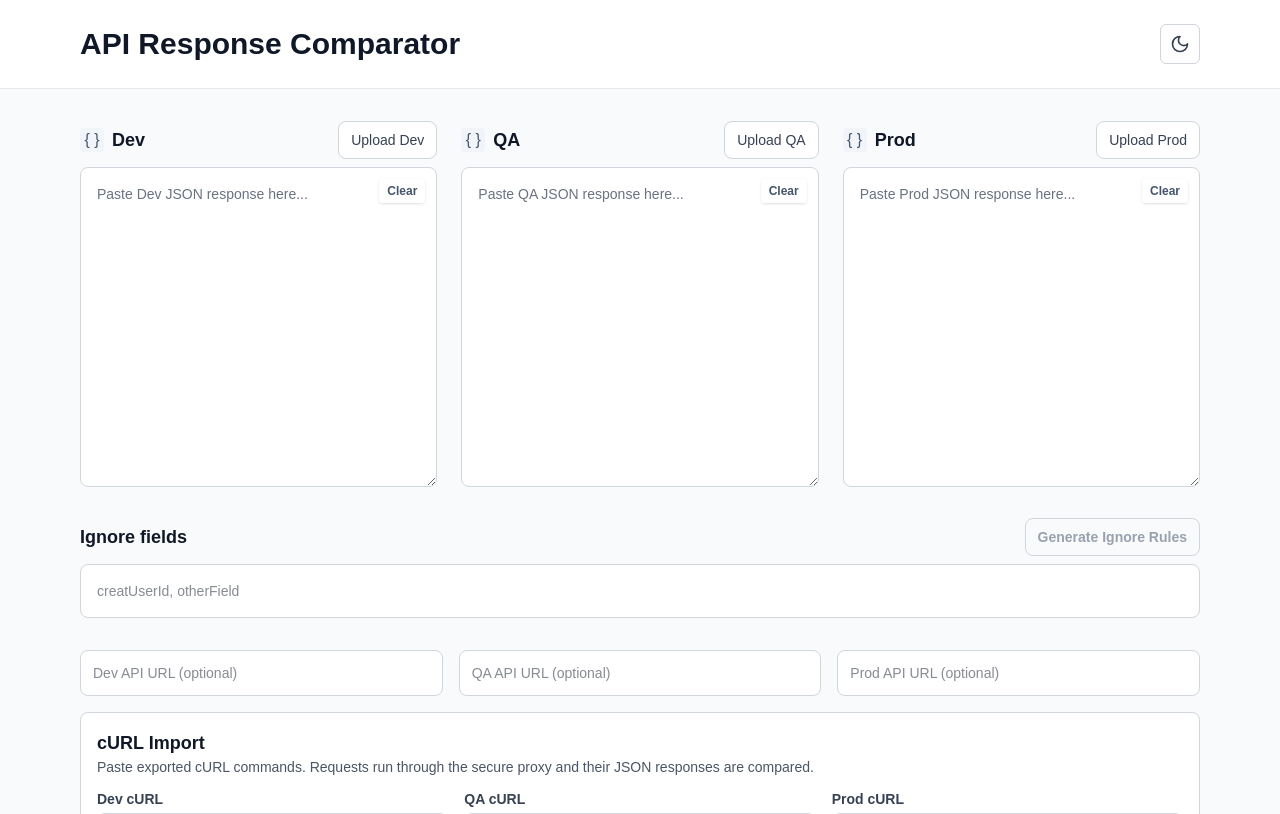
Scenario: Home › clears each environment URL independently
Step 1. Type "https://dev.test" into the field labelled "Dev API URL" → (261, 673), box [80,650,443,696]
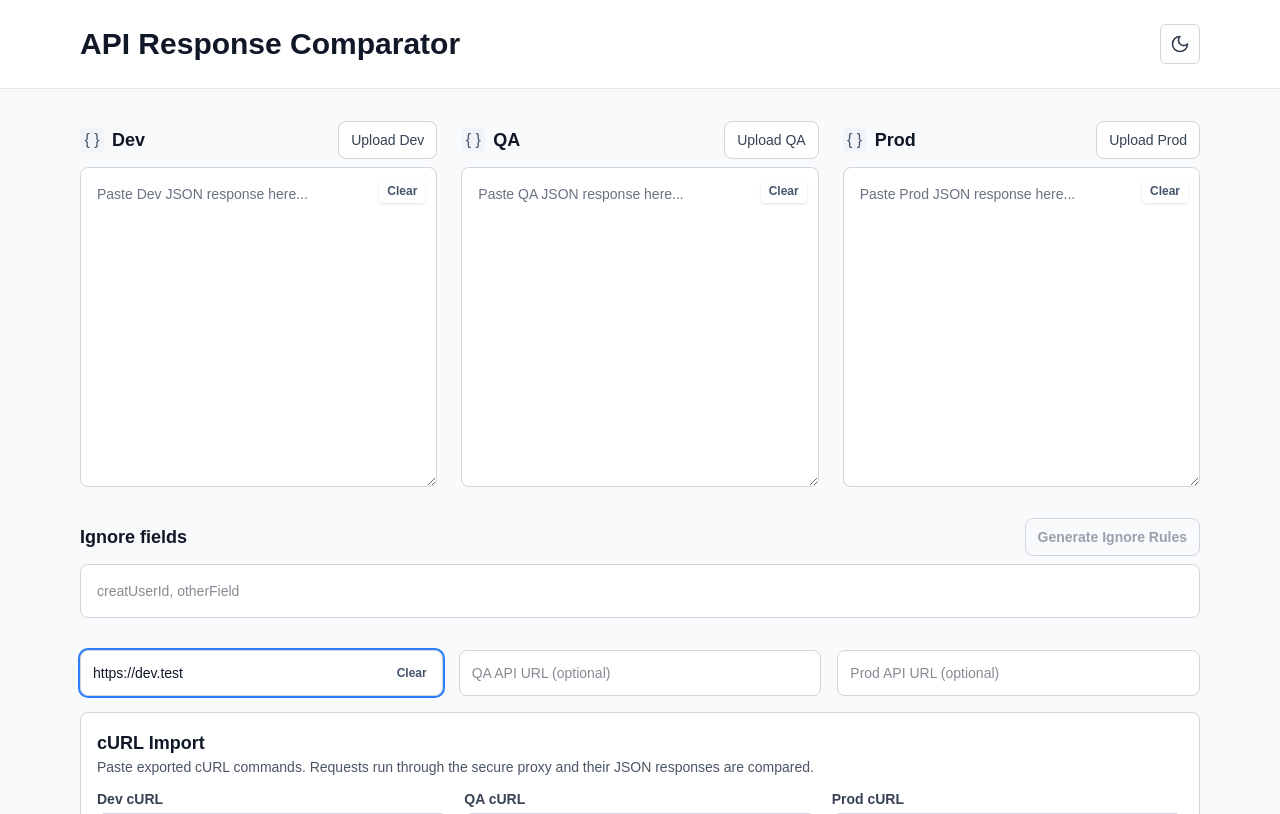
Step 2. Type "https://qa.test" into the field labelled "QA API URL" → (640, 673), box [459,650,821,696]
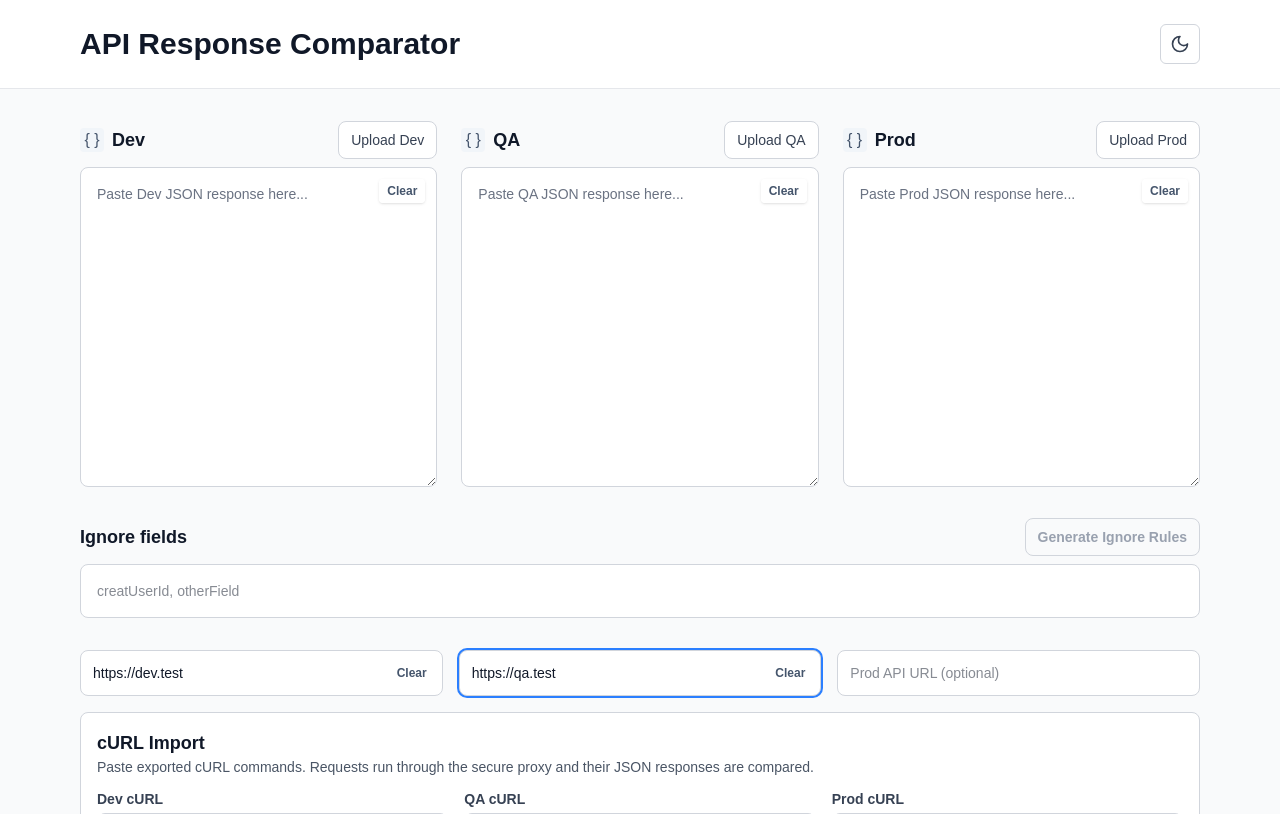
Step 3. Type "https://prod.test" into the field labelled "Prod API URL" → (1019, 673), box [837,650,1200,696]
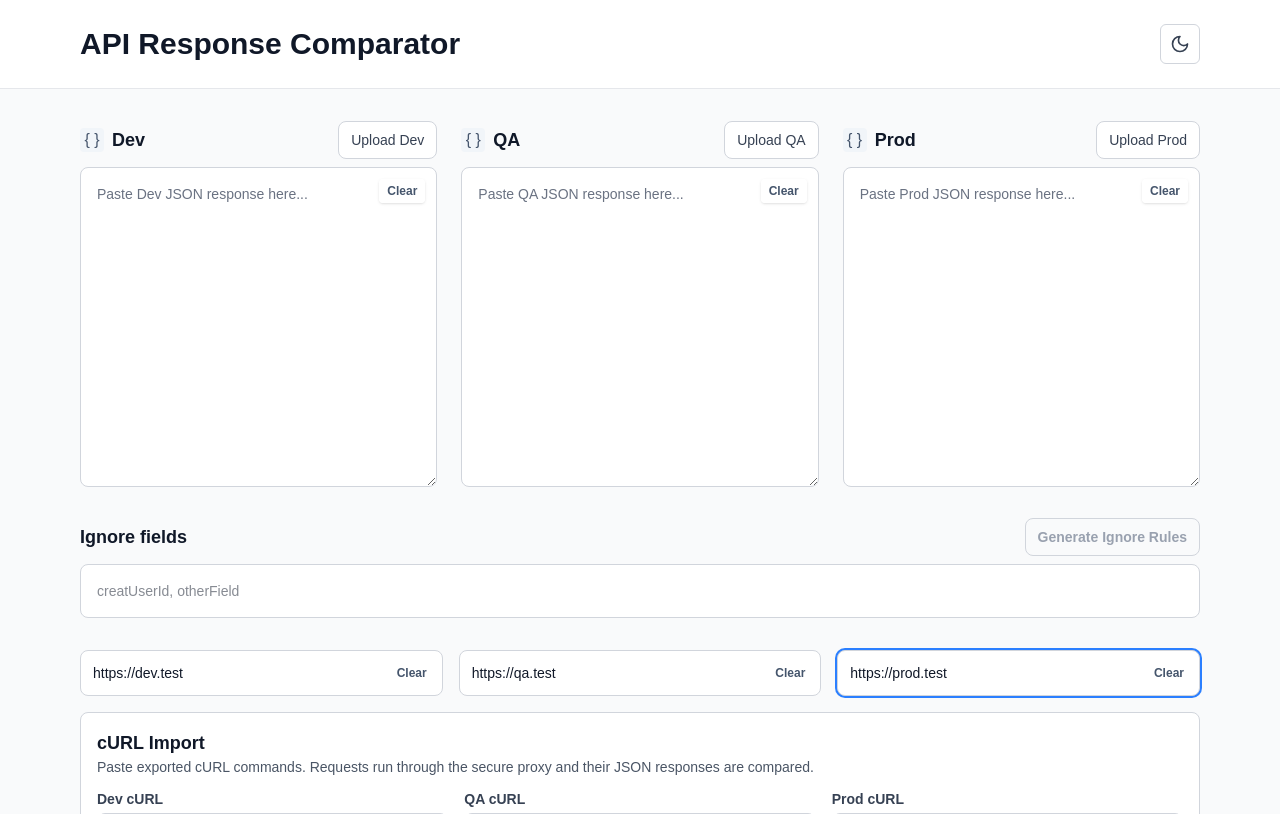
Step 4. Click the button with aria-label "Clear QA API URL" → (790, 673), box [767,661,813,685]
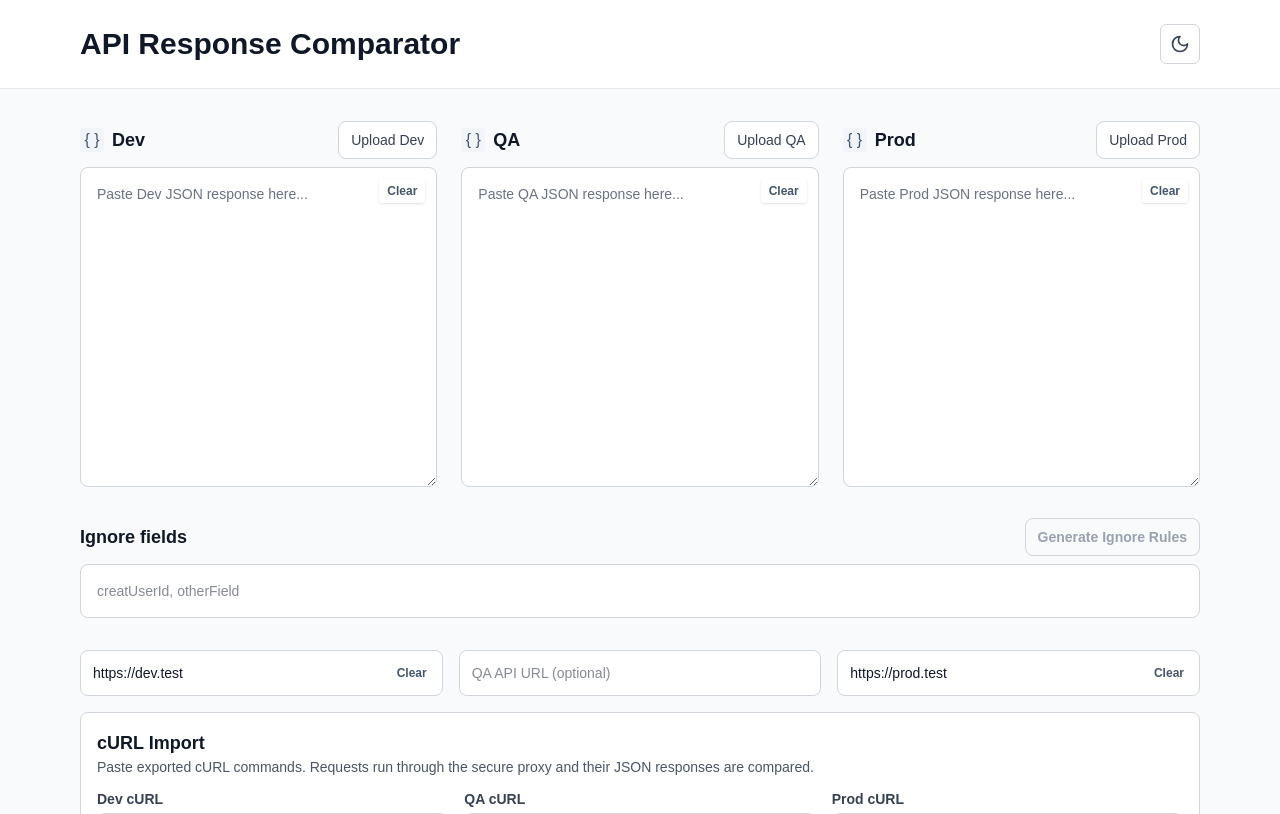
Expected: the field labelled "QA API URL" is empty, [459,650,821,696]
